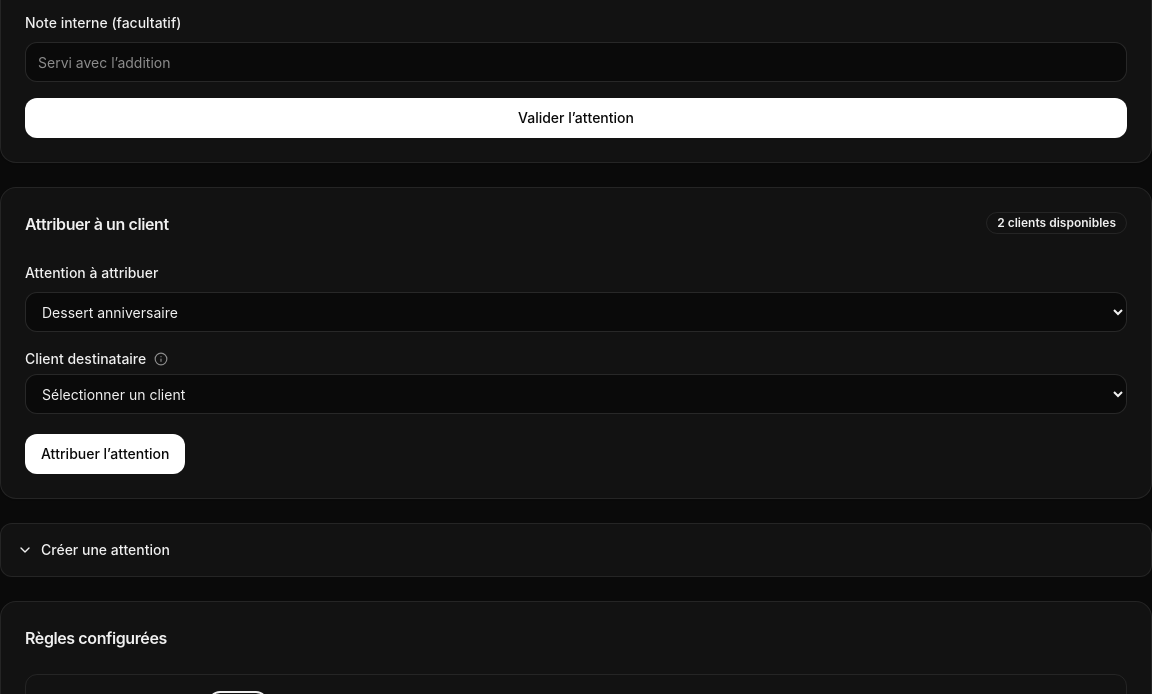
Test case: LoyaltyPage › attribue une attention à un client et affiche le code une seule fois
This screenshot has width=1152, height=694.
(page scrolled)
Expected: the button "Attribuer l’attention" is enabled, [25,434,185,474]
Select "Bob VIP · •••• 7788" in the dropdown labelled "Client destinataire": (576, 394) [25,374,1127,414]
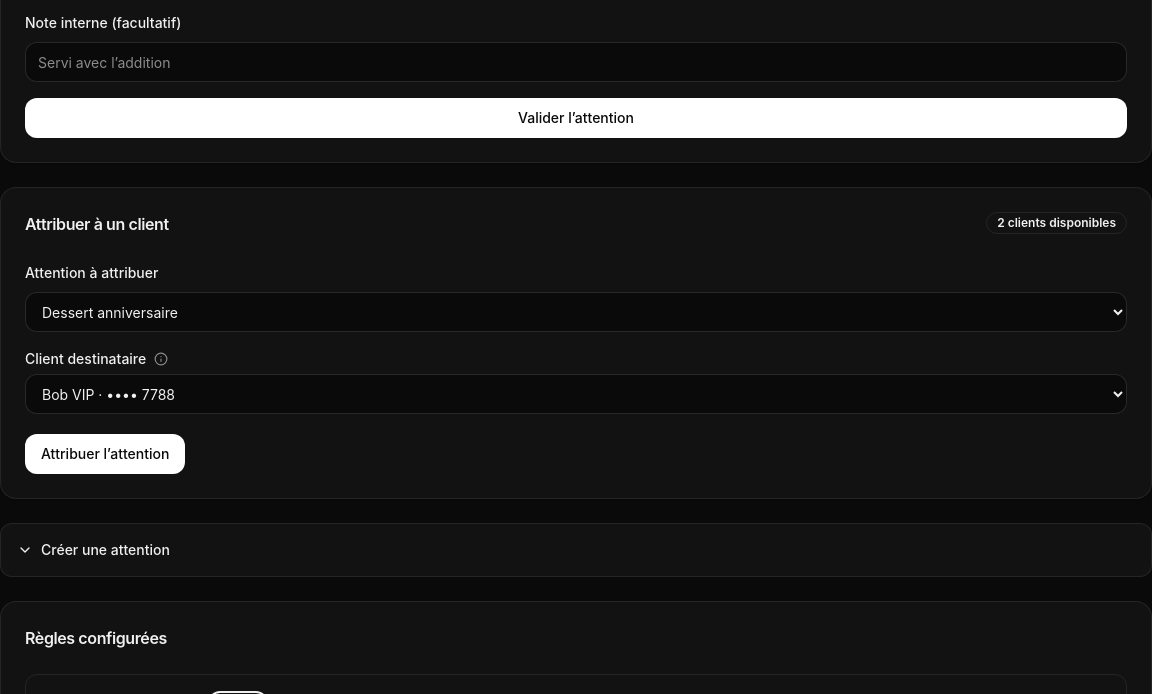
Click the button "Attribuer l’attention": (105, 454) [25,434,185,474]
(page scrolled)
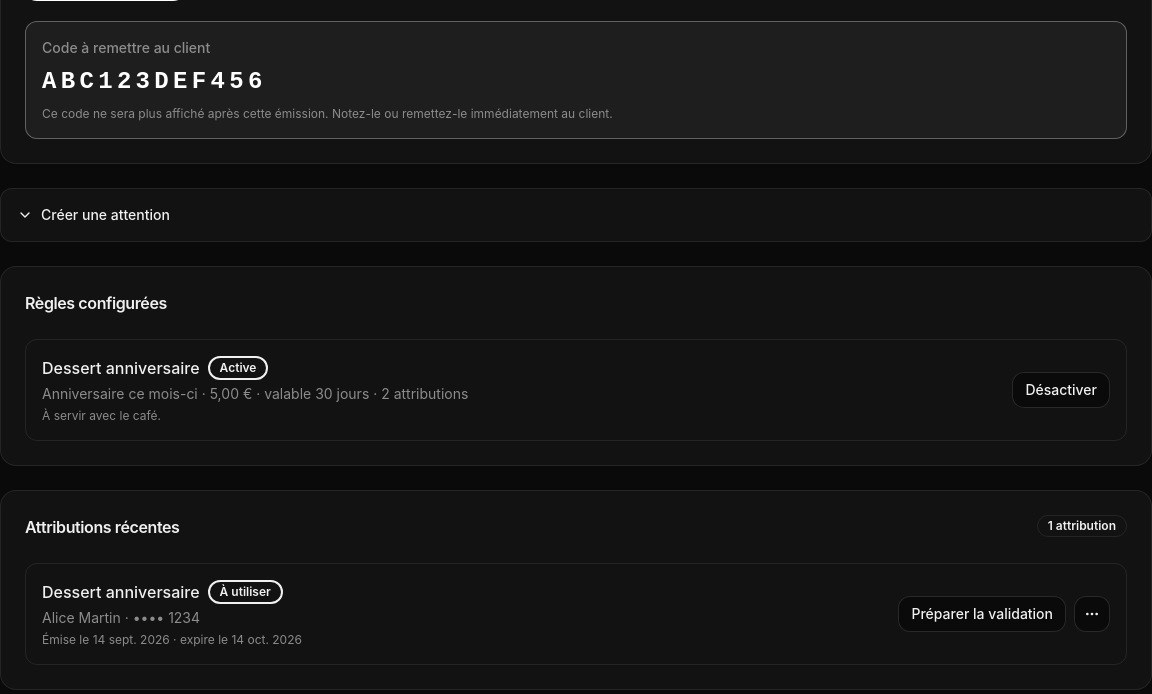
Expected: the text "Code à remettre au client" is shown, [42,39,210,56]
Expected: the text "ABC123DEF456" is shown, [42,68,267,95]
Expected: the text "30 jours · 2 attributions" is shown, [42,384,468,404]
